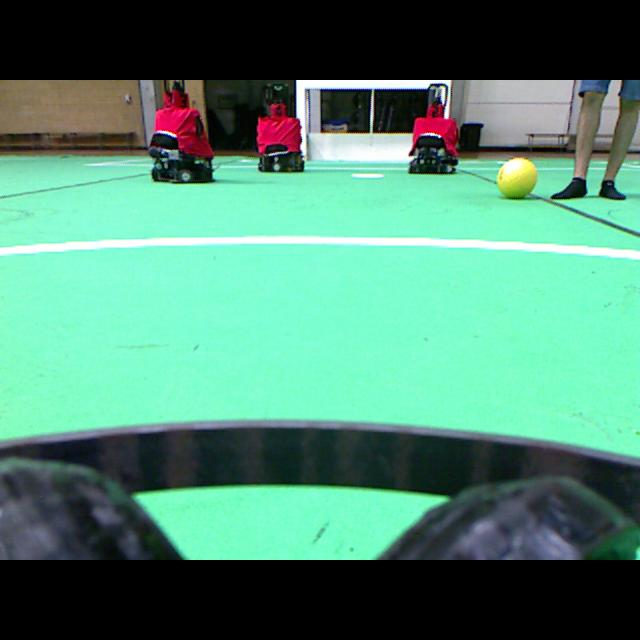ball: (497, 158, 537, 197)
goal: (296, 80, 306, 159)
